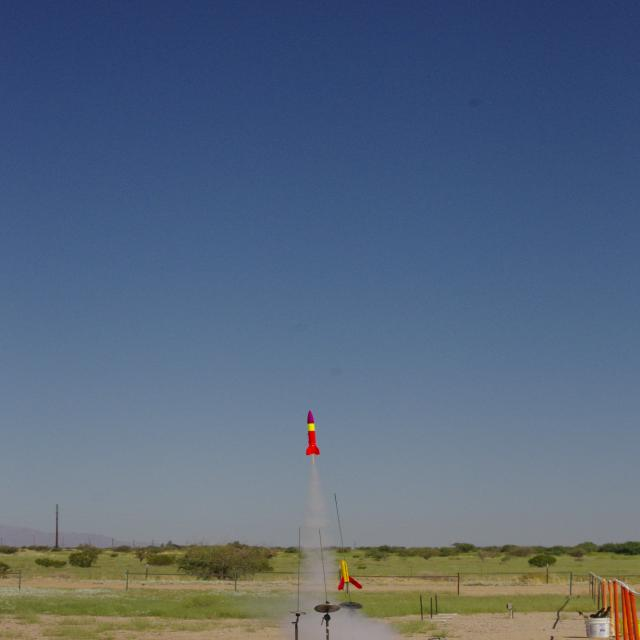Rocket: (336, 559, 362, 591), (306, 409, 322, 458)
